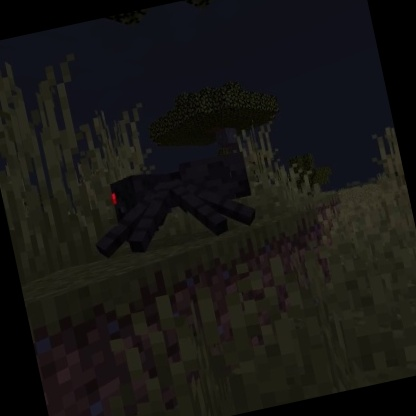spider: (79, 144, 266, 265)
